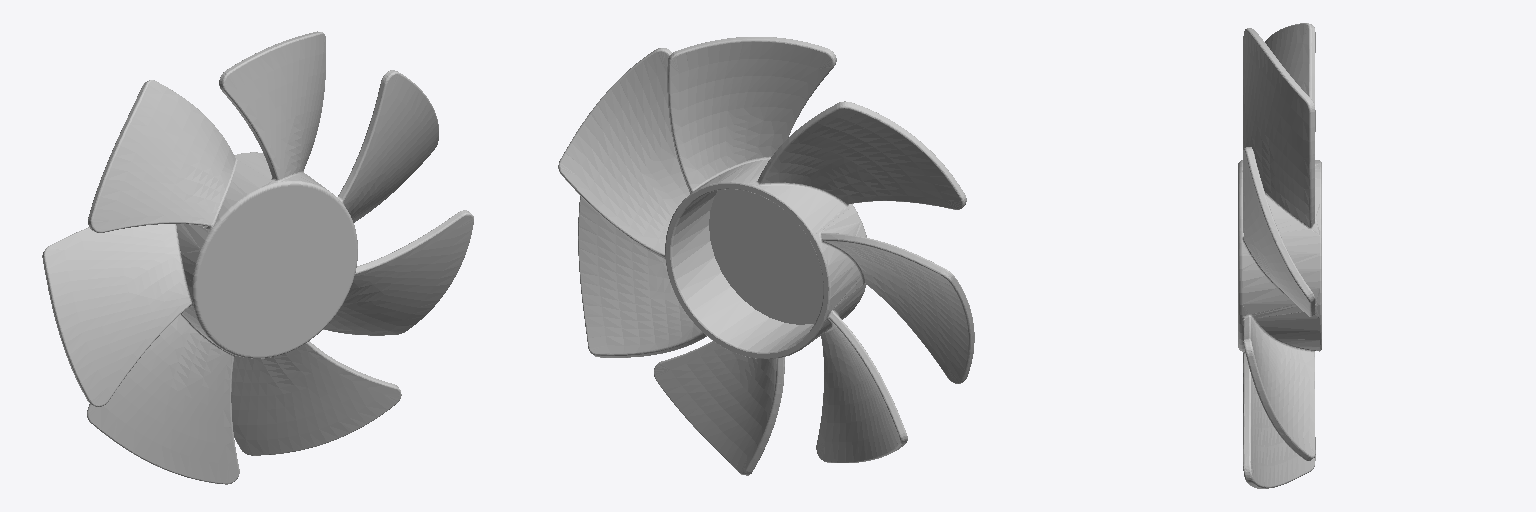
The model's file is SP120_Fanblade.obj.
The picture shows the model from 3 angles: view 1: azimuth 30°, elevation 25°; view 2: azimuth 150°, elevation 25°; view 3: azimuth 270°, elevation 25°; orthographic projection.
Visible parts, largest first — view 1: Object.003; view 2: Object.003; view 3: Object.003.
Part boxes in pixels (x1,y1,x2,y2): Object.003: (42, 31, 473, 484); Object.003: (558, 37, 974, 475); Object.003: (1238, 23, 1321, 488).
Size of the model in its own units: 11.2 by 11.2 by 2.